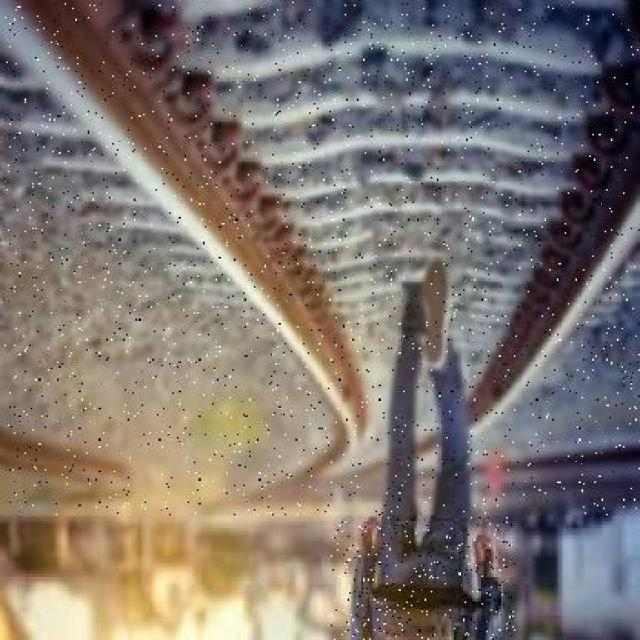rail: (6, 3, 640, 516)
